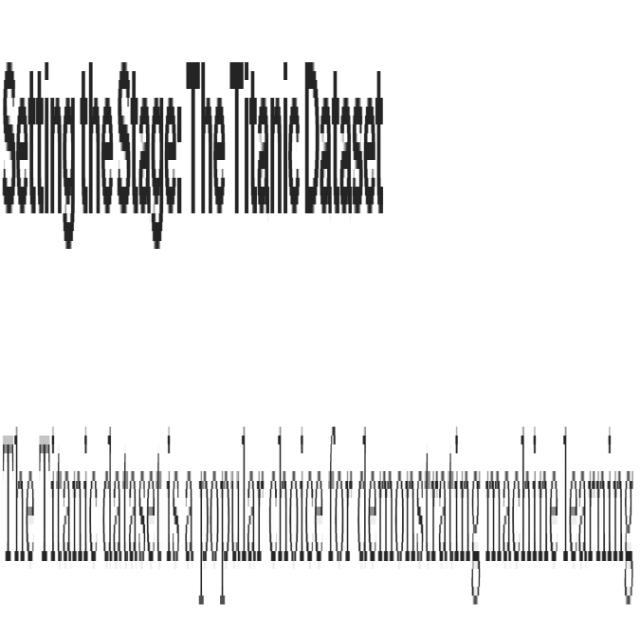word: (356, 423, 483, 618), (302, 30, 387, 254), (228, 34, 302, 271), (2, 43, 76, 263), (482, 398, 559, 609), (560, 402, 634, 618), (197, 398, 266, 626), (118, 47, 184, 263), (37, 398, 103, 609), (101, 402, 164, 622), (268, 394, 326, 622), (184, 43, 226, 246), (1, 407, 38, 606), (78, 47, 114, 246), (327, 398, 357, 601), (165, 419, 181, 588), (182, 461, 196, 601)
